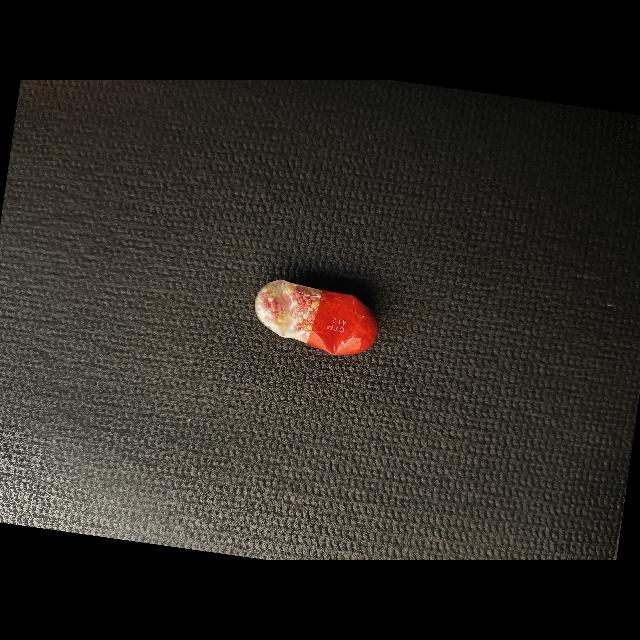Defective Capsule: (255, 279, 379, 355)
